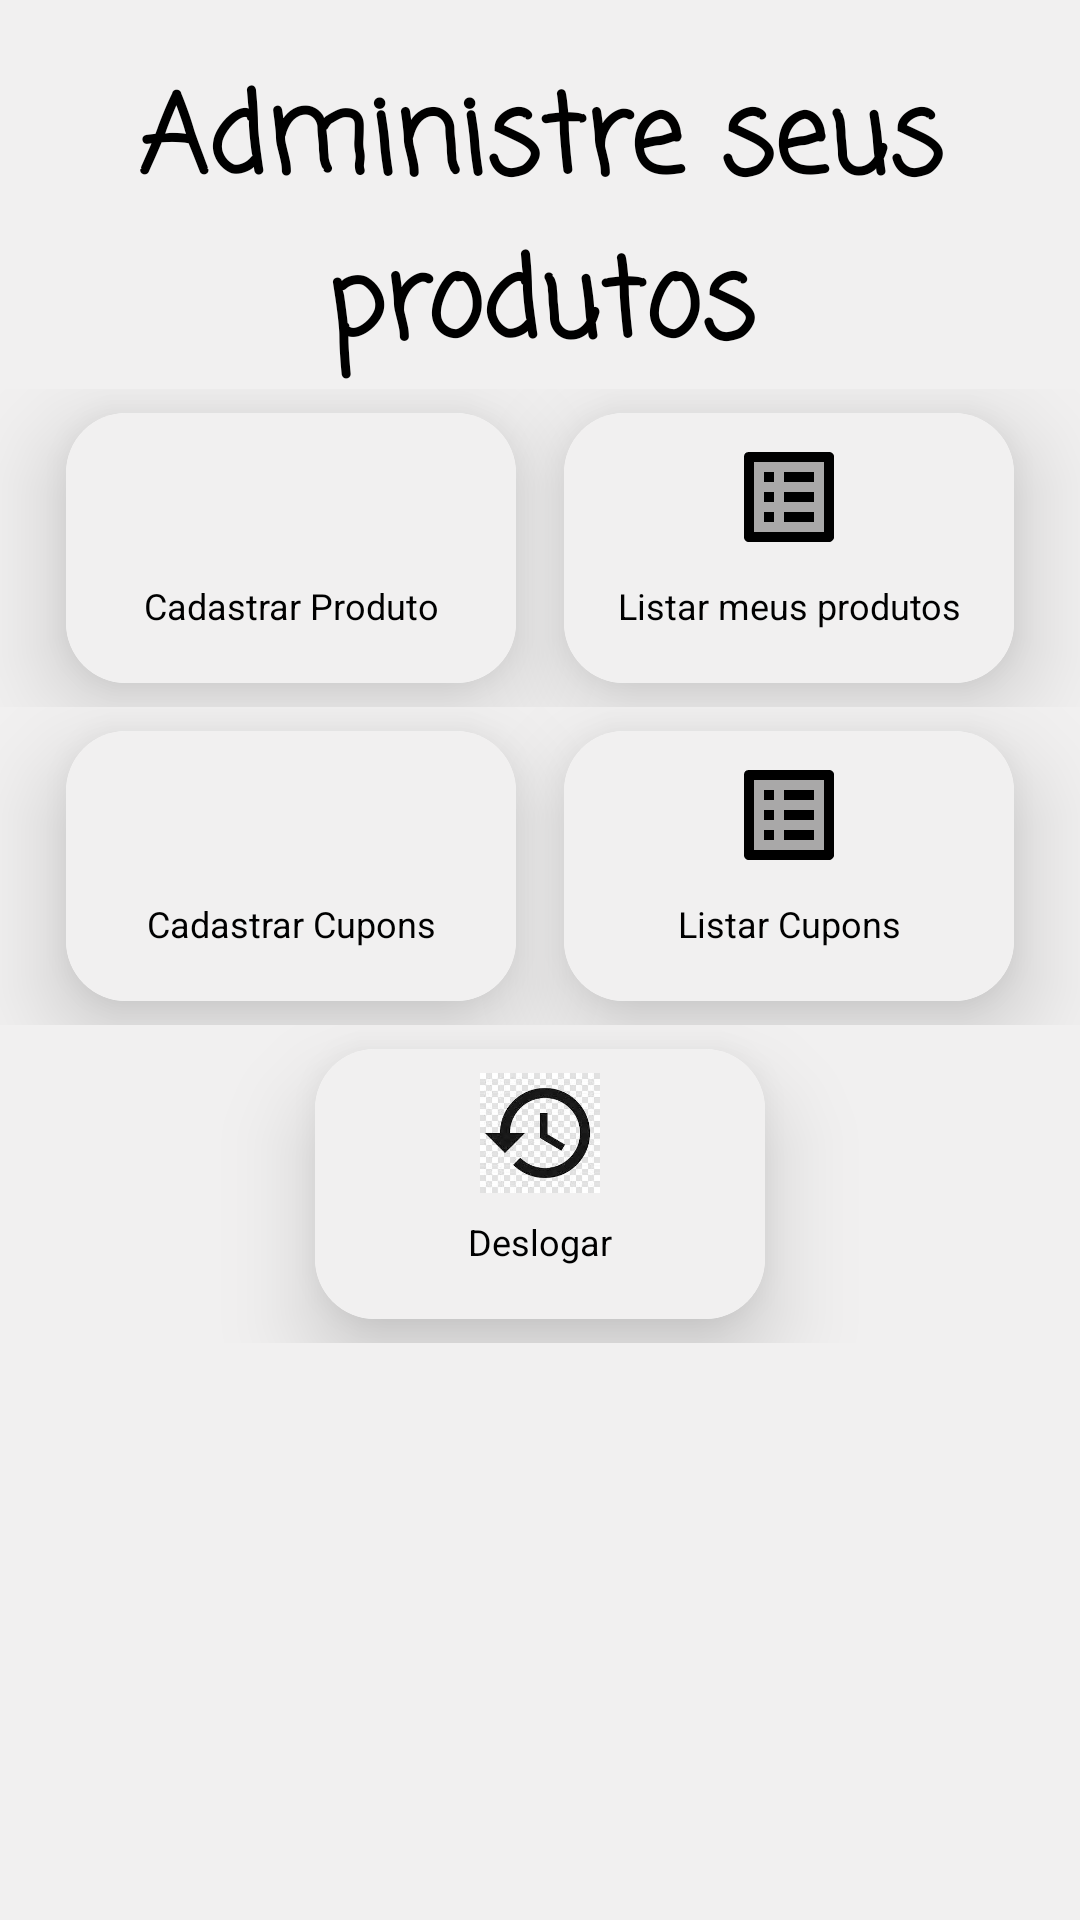

Point at icon controls on the screen. Image size 1080*1920, points as (x=x, y=y).
historico: (x=538, y=1132)
